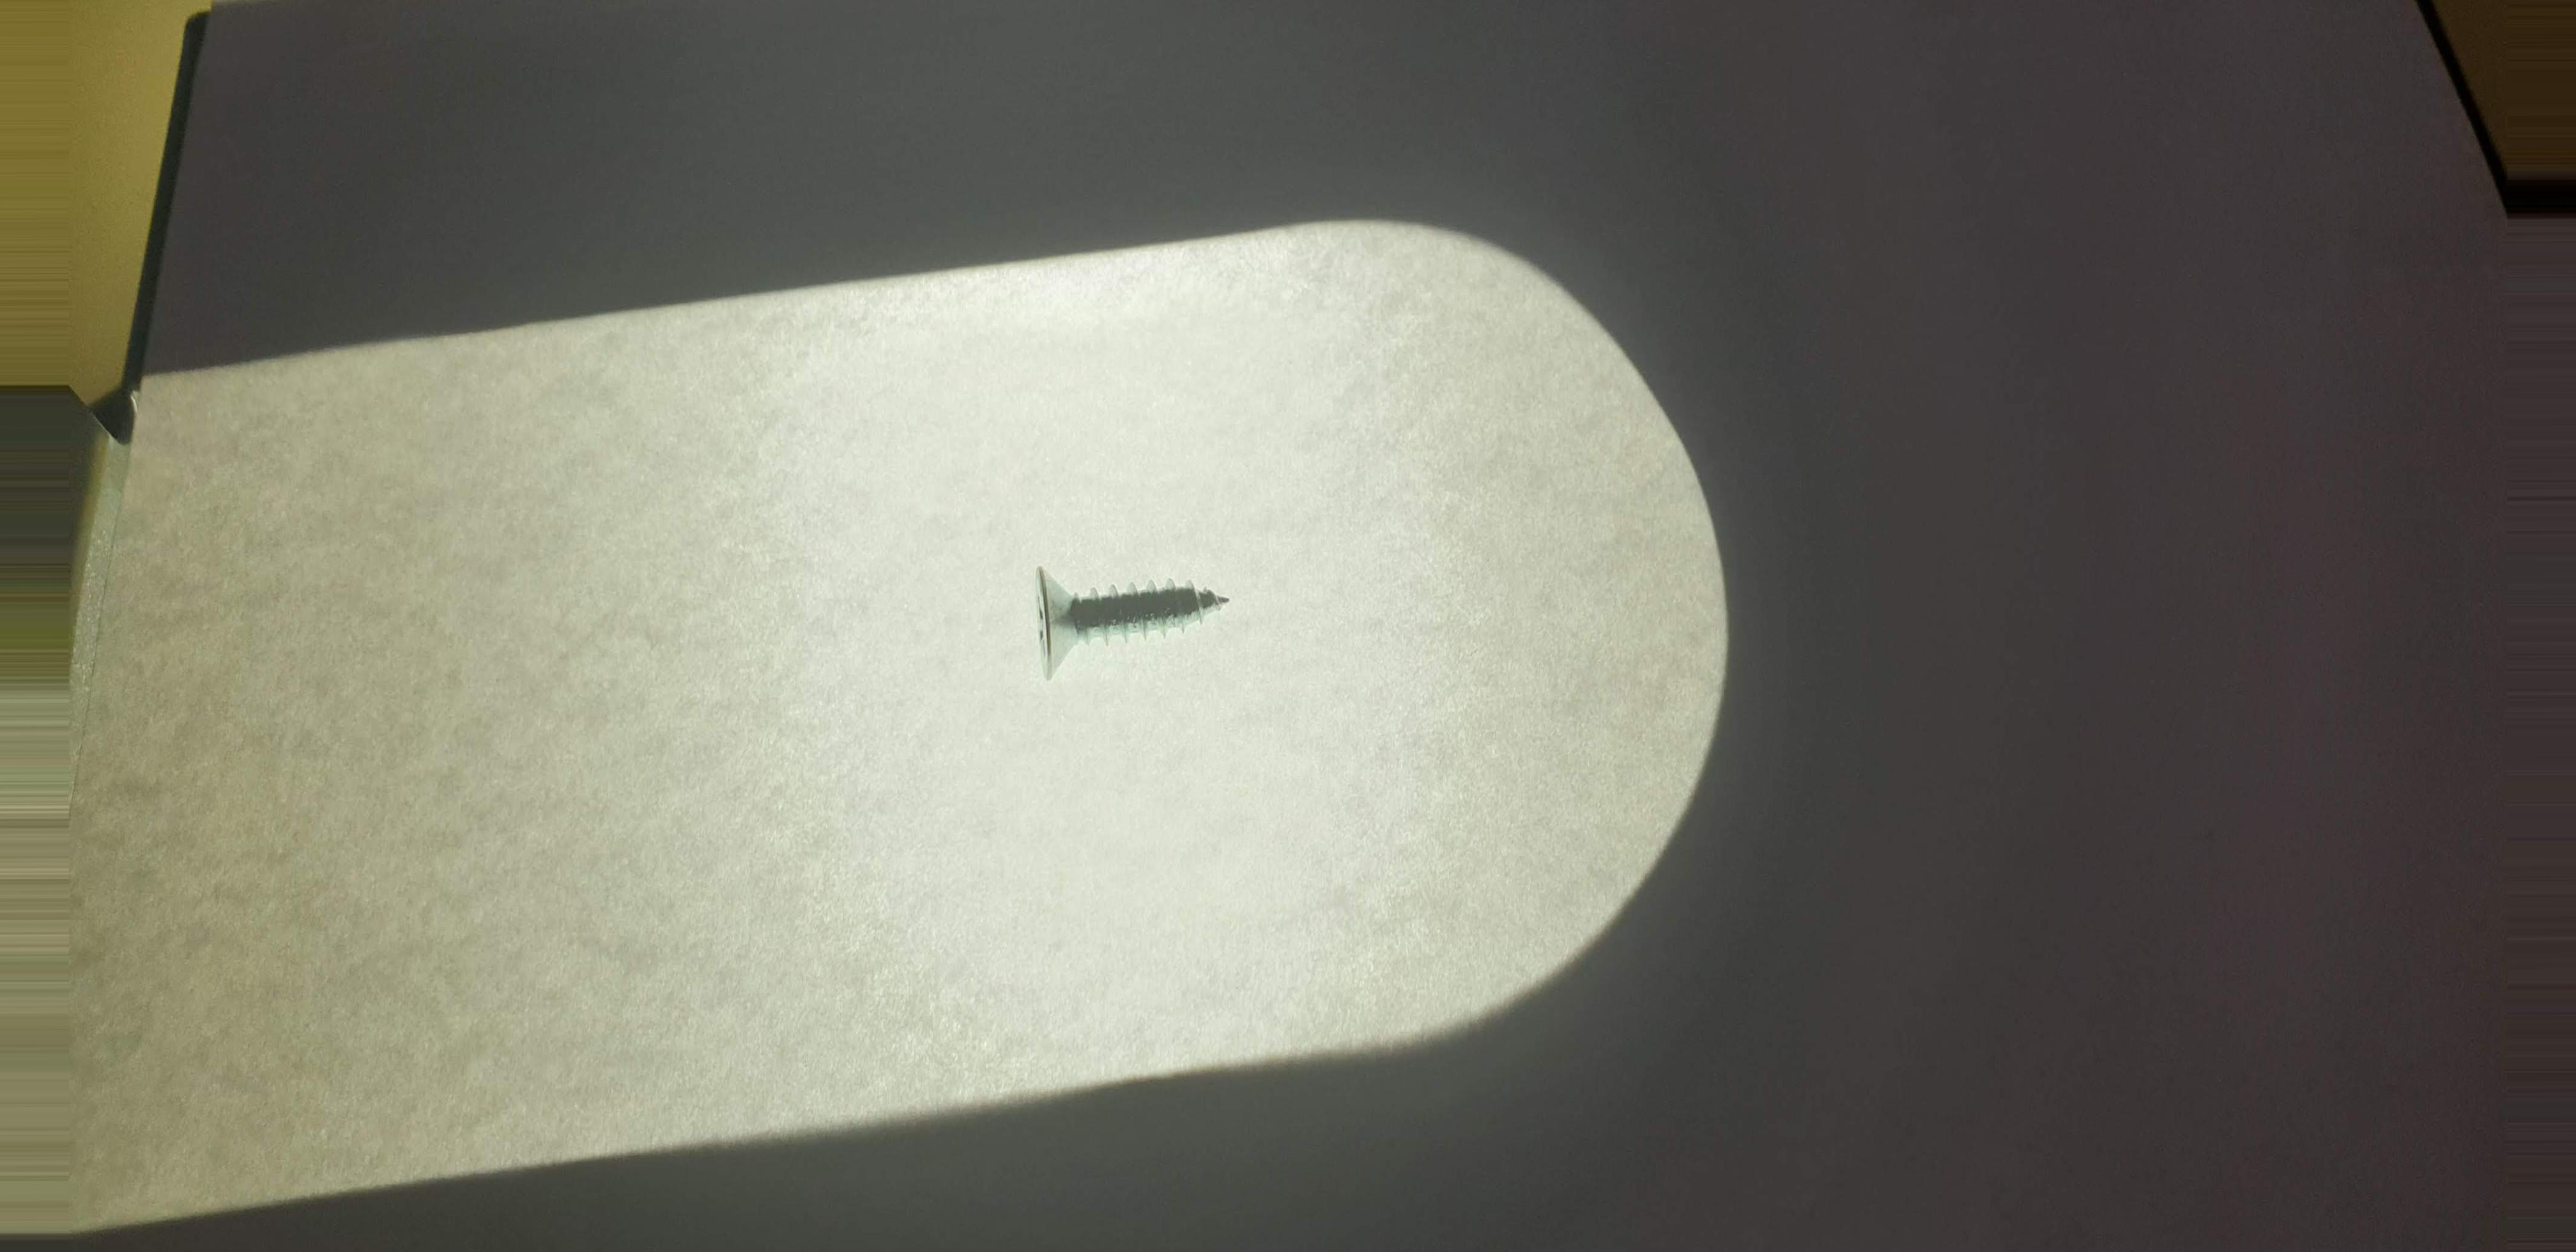S003: (997, 554, 1263, 710)
